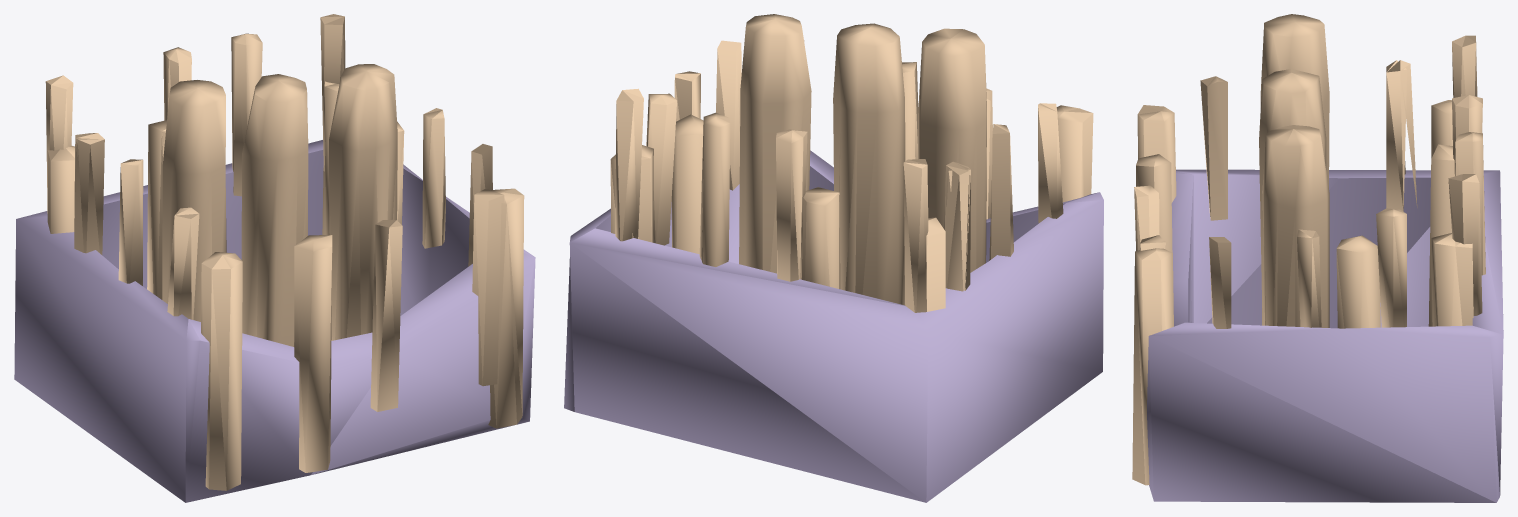
The model's file is bedroom_brushes.glb.
3 views of the same model, side by side, from view 1: azimuth 30°, elevation 25°; view 2: azimuth 150°, elevation 25°; view 3: azimuth 270°, elevation 25° (orthographic). The views are drawn at different scales.
Bounding box in the file's own units: 0.34 × 0.3263 × 0.3105.
